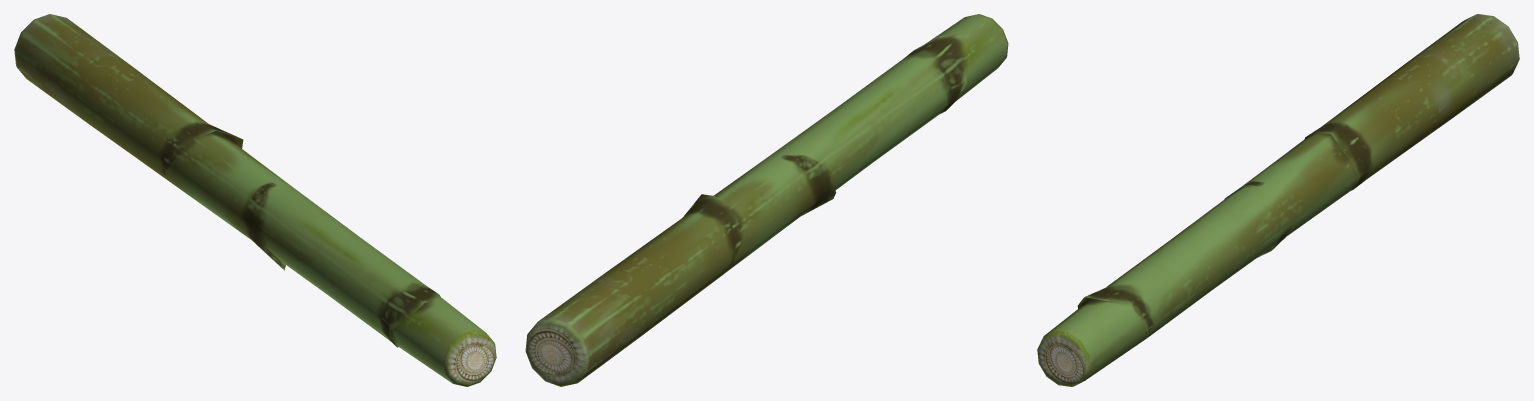
The model's file is ThanChuoi.fbx.
3 renders of one model, left to right at view 1: azimuth 30°, elevation 25°; view 2: azimuth 150°, elevation 25°; view 3: azimuth 330°, elevation 25°, orthographic.
Parts seen in each view (by area): view 1: bechuoi1; view 2: bechuoi1; view 3: bechuoi1.
Boxes of the visible parts, x1,y1,x2,y2 form: bechuoi1: [14, 14, 496, 386]; bechuoi1: [525, 14, 1008, 386]; bechuoi1: [1037, 14, 1519, 386].
Bounding box in the file's own units: 14.18 × 14.63 × 166.
1 material, 1 textured.
